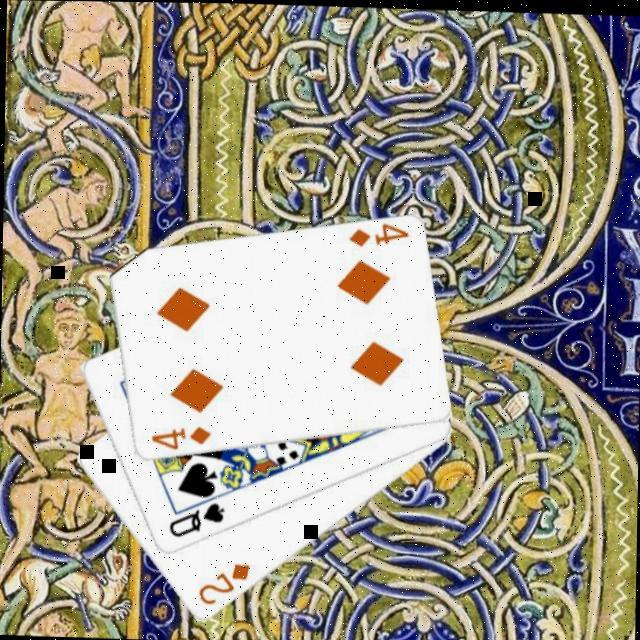2D: (192, 556, 250, 607)
4D: (144, 419, 212, 451), (342, 216, 409, 248)
QS: (162, 496, 225, 540)
